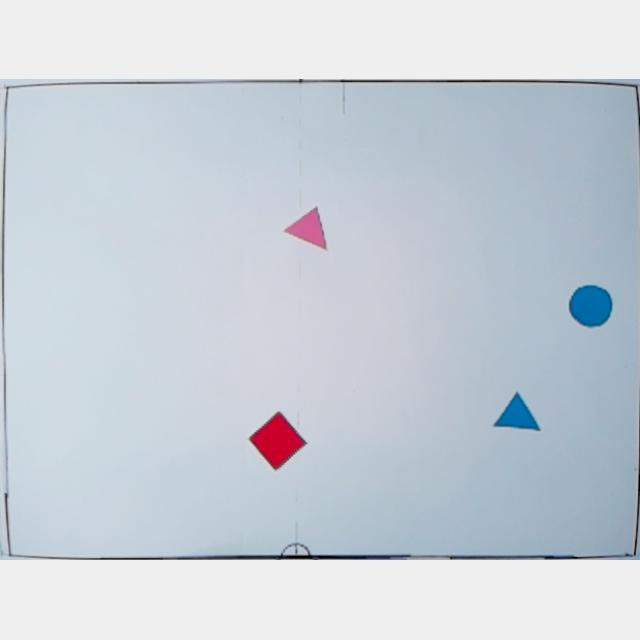blueCircle: (566, 286, 614, 332)
blueTriangle: (490, 390, 544, 438)
pinkTriangle: (284, 205, 330, 255)
redSquare: (248, 410, 306, 472)
